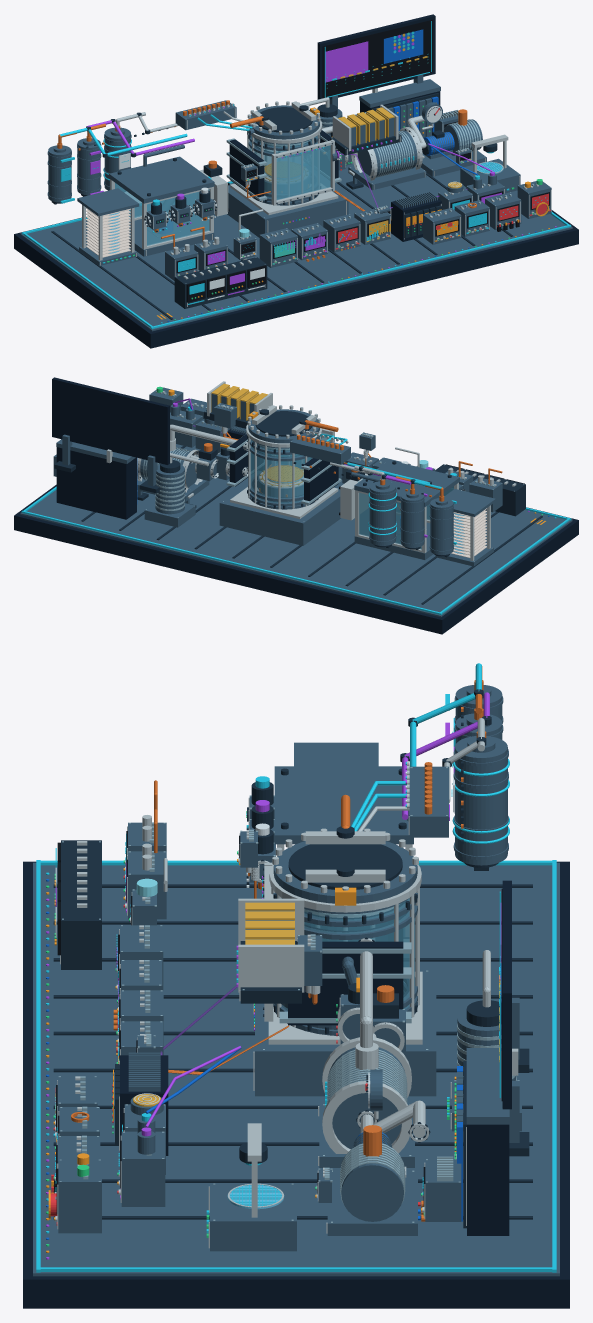
The model's file is Level72_Complete_ArtKit_Showcase.fbx.
3 views of the same model, one above another, from view 1: azimuth 30°, elevation 25°; view 2: azimuth 150°, elevation 25°; view 3: azimuth 270°, elevation 25° (orthographic). The views are drawn at different scales.
Visible parts, largest first — view 1: Level72_Complete_ArtKit_Showcase; view 2: Level72_Complete_ArtKit_Showcase; view 3: Level72_Complete_ArtKit_Showcase.
Part boxes in pixels (box(x1,y1,x2,y2)): Level72_Complete_ArtKit_Showcase: box(14, 14, 578, 348); Level72_Complete_ArtKit_Showcase: box(14, 377, 578, 634); Level72_Complete_ArtKit_Showcase: box(23, 663, 569, 1308).
Size of the model in its own units: 1610 by 538 by 890.
